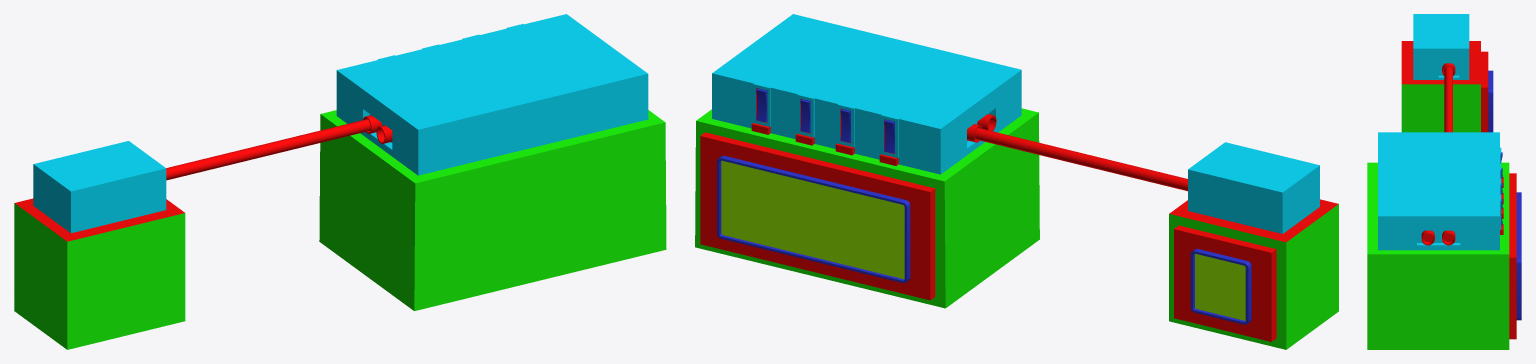
File: microwave.fbx
3 views of the same model, side by side, from view 1: azimuth 30°, elevation 25°; view 2: azimuth 150°, elevation 25°; view 3: azimuth 270°, elevation 25° (orthographic). The views are drawn at different scales.
Visible parts, largest first — view 1: microwave; view 2: microwave; view 3: microwave.
Boxes of the visible parts, x1,y1,x2,y2 form: microwave: [14, 14, 666, 349]; microwave: [695, 14, 1338, 349]; microwave: [1367, 14, 1521, 349].
Size of the model in its own units: 242 by 69.77 by 75.28.
